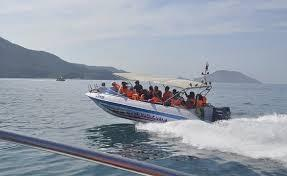Ship: (87, 74, 232, 123)
